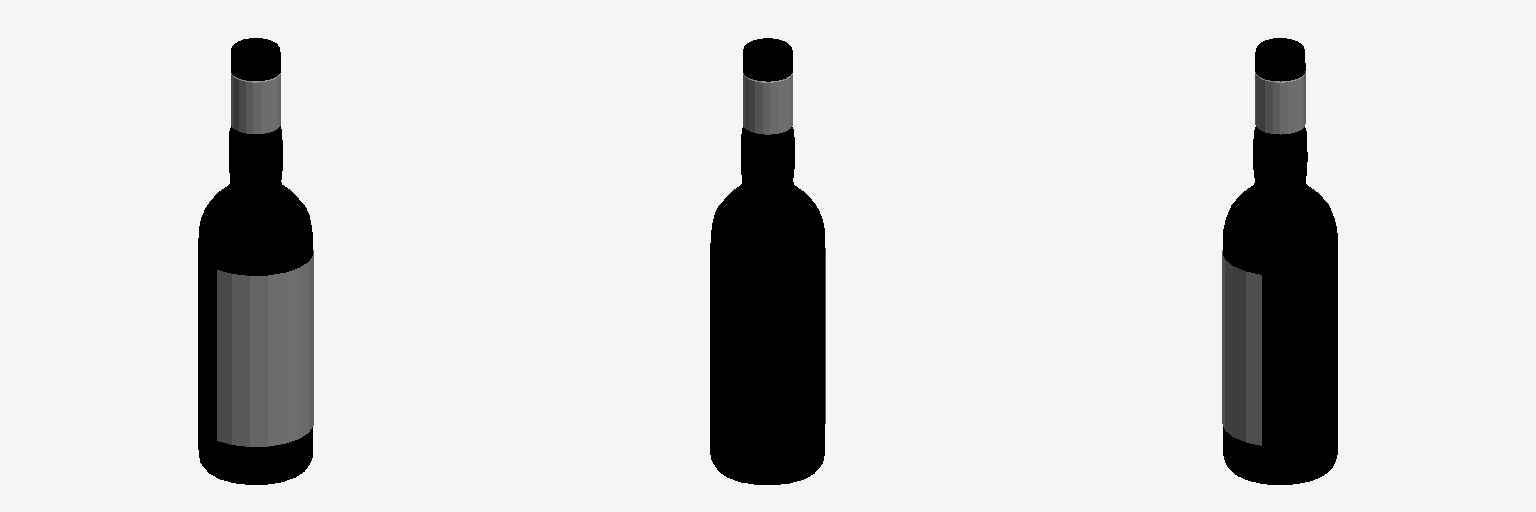
3 renders of one model, left to right at view 1: azimuth 30°, elevation 25°; view 2: azimuth 150°, elevation 25°; view 3: azimuth 270°, elevation 25°, orthographic.
Parts seen in each view (by area): view 1: Sambuka; view 2: Sambuka; view 3: Sambuka.
Part boxes in pixels (x1,y1,x2,y2): Sambuka: (198,38,313,484); Sambuka: (710,38,825,484); Sambuka: (1222,38,1337,484).
Size of the model in its own units: 0.661 by 2.64 by 0.6649.